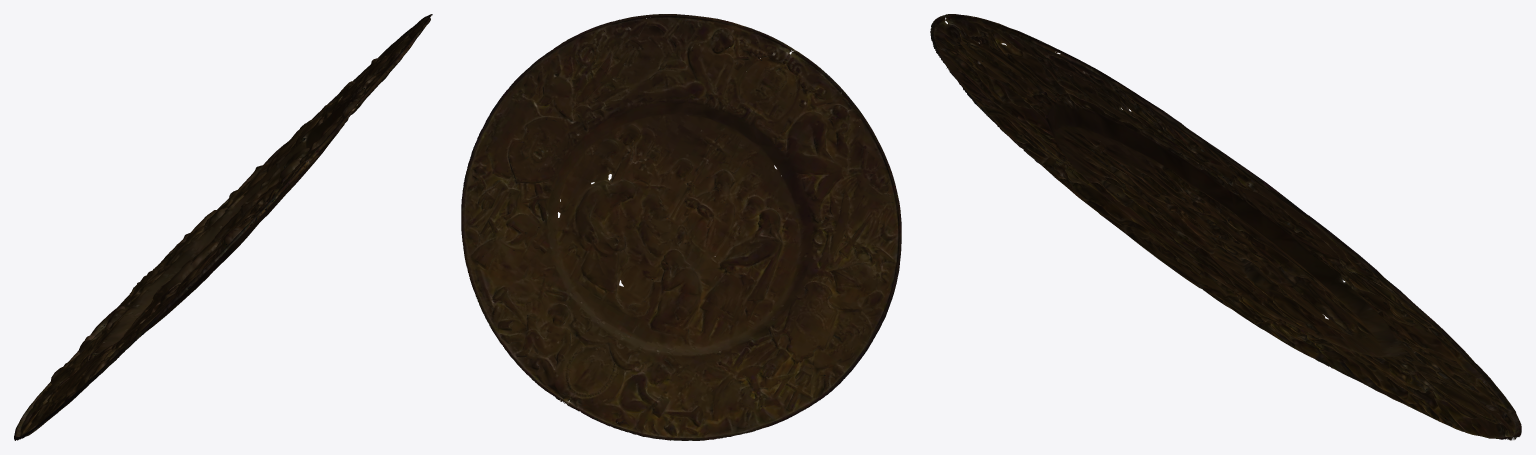
File: 199009-BKD-MetalPlate_Low-transformed.glb
3 views of the same model, side by side, from view 1: azimuth 30°, elevation 25°; view 2: azimuth 150°, elevation 25°; view 3: azimuth 270°, elevation 25° (orthographic). The views are drawn at different scales.
Visible parts, largest first — view 1: 199009-BKD-MetalPlate_Low; view 2: 199009-BKD-MetalPlate_Low; view 3: 199009-BKD-MetalPlate_Low.
Part boxes in pixels (bbox=[...]): 199009-BKD-MetalPlate_Low: bbox=[14, 14, 432, 440]; 199009-BKD-MetalPlate_Low: bbox=[461, 14, 901, 440]; 199009-BKD-MetalPlate_Low: bbox=[930, 14, 1521, 440].
Size of the model in its own units: 0.8479 by 0.7335 by 0.8025.
1 material, 1 textured.
